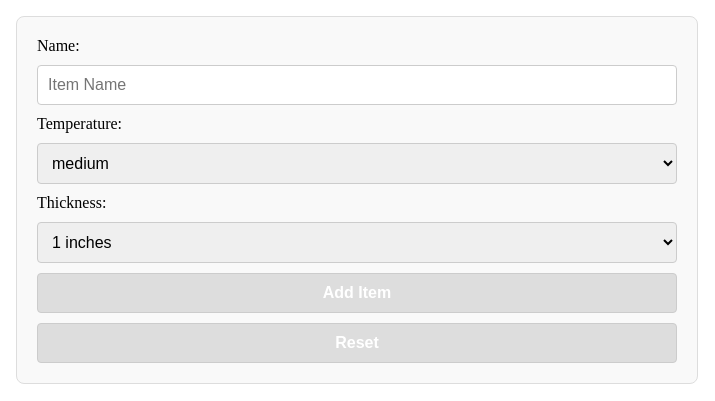
Scenario: GrillItemForm › should disable the Add Item button if the form is incomplete
The width and height of the screenshot is (715, 401).
Expected: the button "Add Item" is disabled, [37, 273, 677, 313]
# Fill in the Name field
Type "Test Steak" into the field with placeholder "Item Name" at x=357, y=85, box [37, 65, 677, 105]
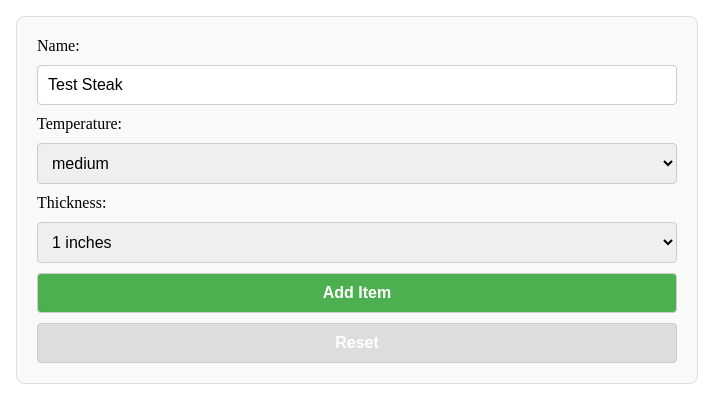
Now the button "Add Item" is enabled, box [37, 273, 677, 313]
# Clear the Name field
Clear the field with placeholder "Item Name" at x=357, y=85, box [37, 65, 677, 105]
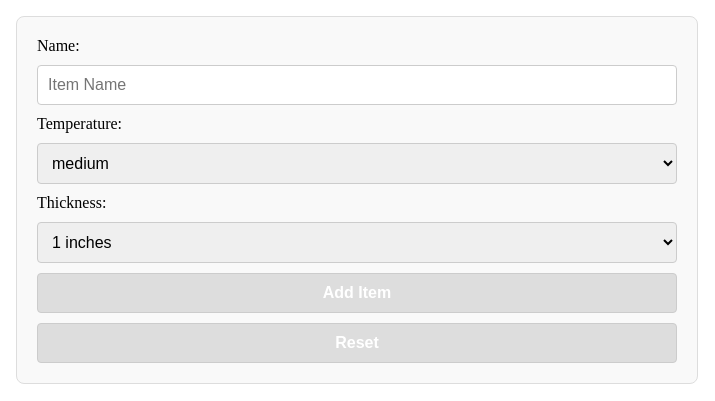
Now the button "Add Item" is disabled, box [37, 273, 677, 313]
